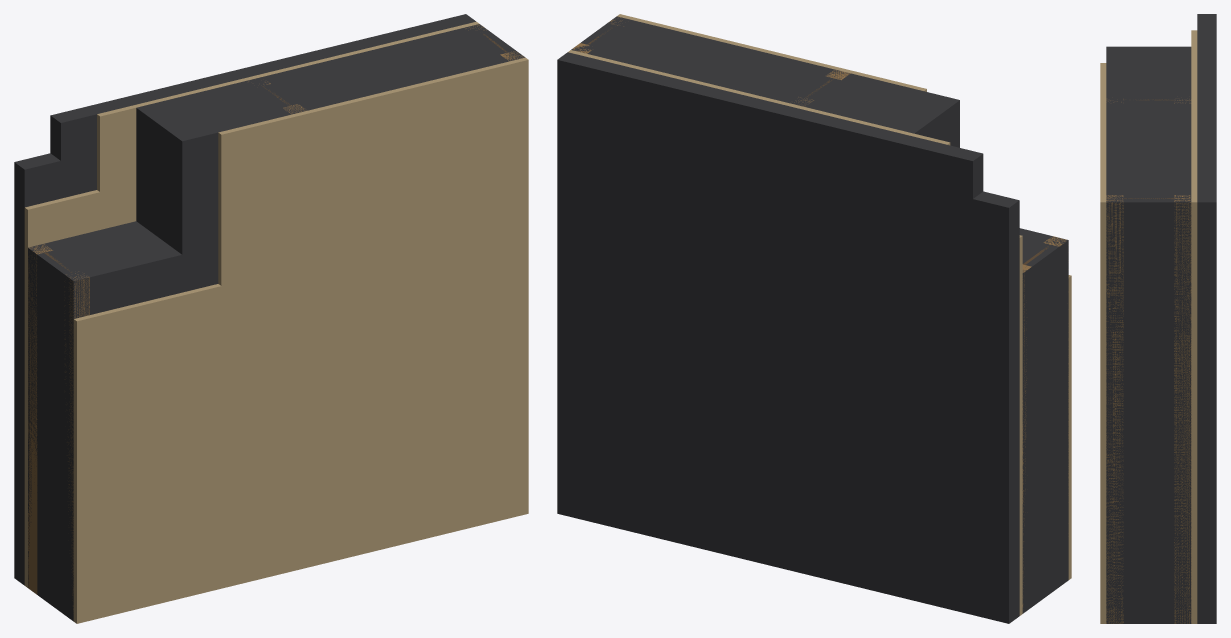
The model's file is perete-polistisip-v2.glb.
The picture shows the model from 3 angles, left to right: view 1: azimuth 30°, elevation 25°; view 2: azimuth 150°, elevation 25°; view 3: azimuth 270°, elevation 25°; orthographic projection. The views are drawn at different scales.
Visible parts, largest first — view 1: PolistiSIP 300; view 2: PolistiSIP 300; view 3: PolistiSIP 300.
Part boxes in pixels (box(x1,y1,x2,y2)): PolistiSIP 300: box(14, 14, 528, 623); PolistiSIP 300: box(557, 14, 1071, 623); PolistiSIP 300: box(1100, 14, 1216, 623).
Size of the model in its own units: 1.25 by 1.2 by 0.3.
